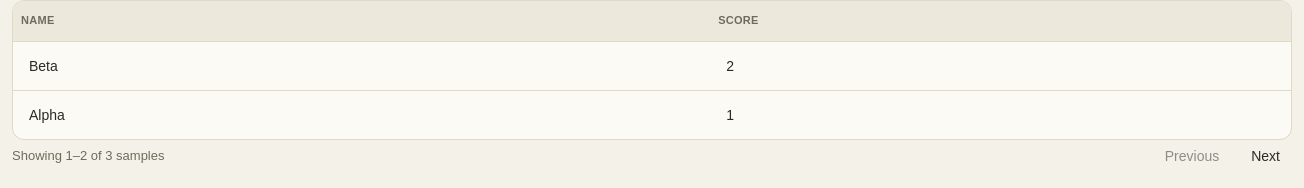
DataTable › should paginates and disables the boundary buttons
This screenshot has width=1304, height=188.
Check: the text "Showing 1–2 of 3 samples" is shown, box [12, 146, 164, 165]
Check: the button "Previous" is disabled, box [1153, 140, 1231, 172]
Click the button "Next". click: (1266, 156)
box: [1239, 140, 1292, 172]
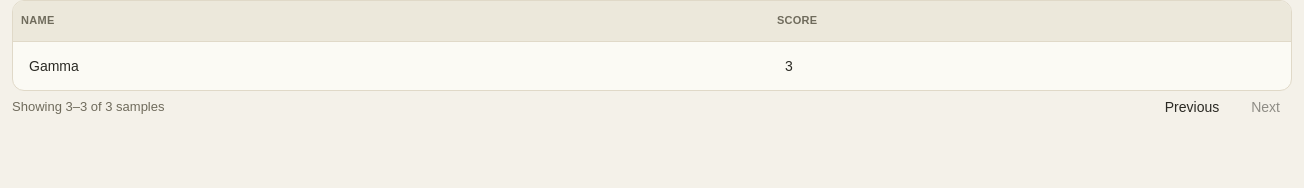
Check: the text "Showing 3–3 of 3 samples" is shown, box [12, 97, 164, 116]
Check: the button "Previous" is enabled, box [1153, 90, 1231, 122]
Check: the button "Next" is disabled, box [1239, 90, 1292, 122]
